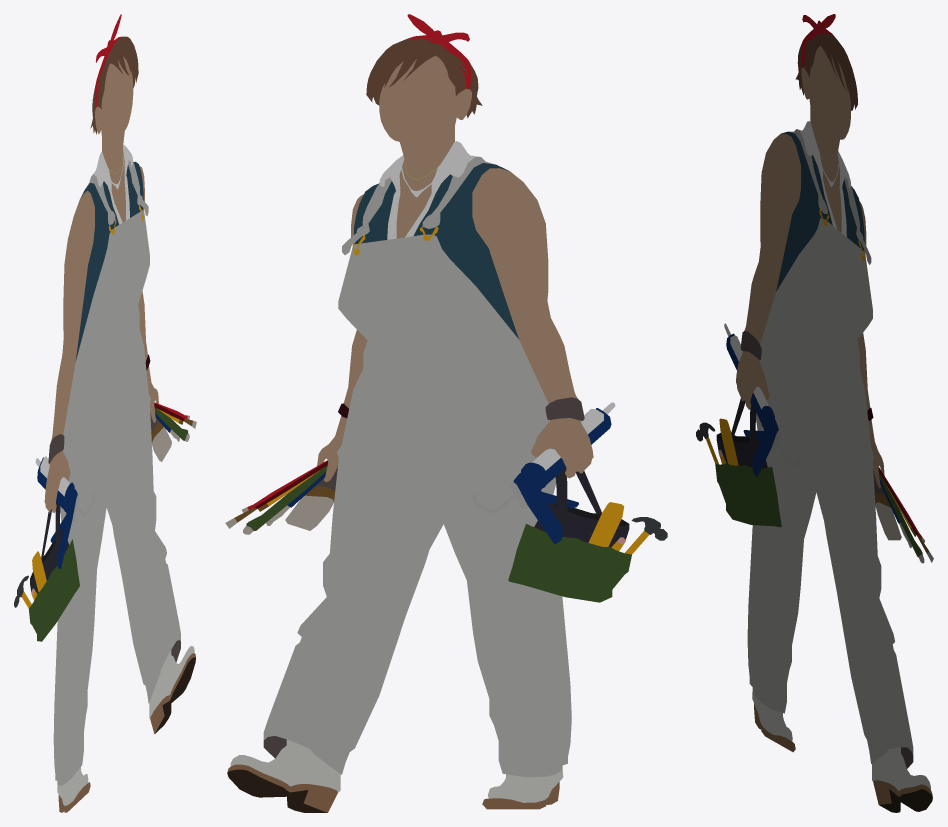
3 renders of one model, left to right at view 1: azimuth 30°, elevation 25°; view 2: azimuth 150°, elevation 25°; view 3: azimuth 270°, elevation 25°, orthographic. The views are drawn at different scales.
Parts seen in each view (by area): view 1: Lisanne (×19); view 2: Lisanne (×24); view 3: Lisanne (×23).
Boxes of the visible parts, box(x1,y1,x2,y2) form: Lisanne (×19): box(29, 14, 195, 805); Lisanne (×24): box(227, 14, 631, 812); Lisanne (×23): box(715, 14, 932, 812).
Size of the model in its own units: 27.89 by 18.82 by 66.88.
